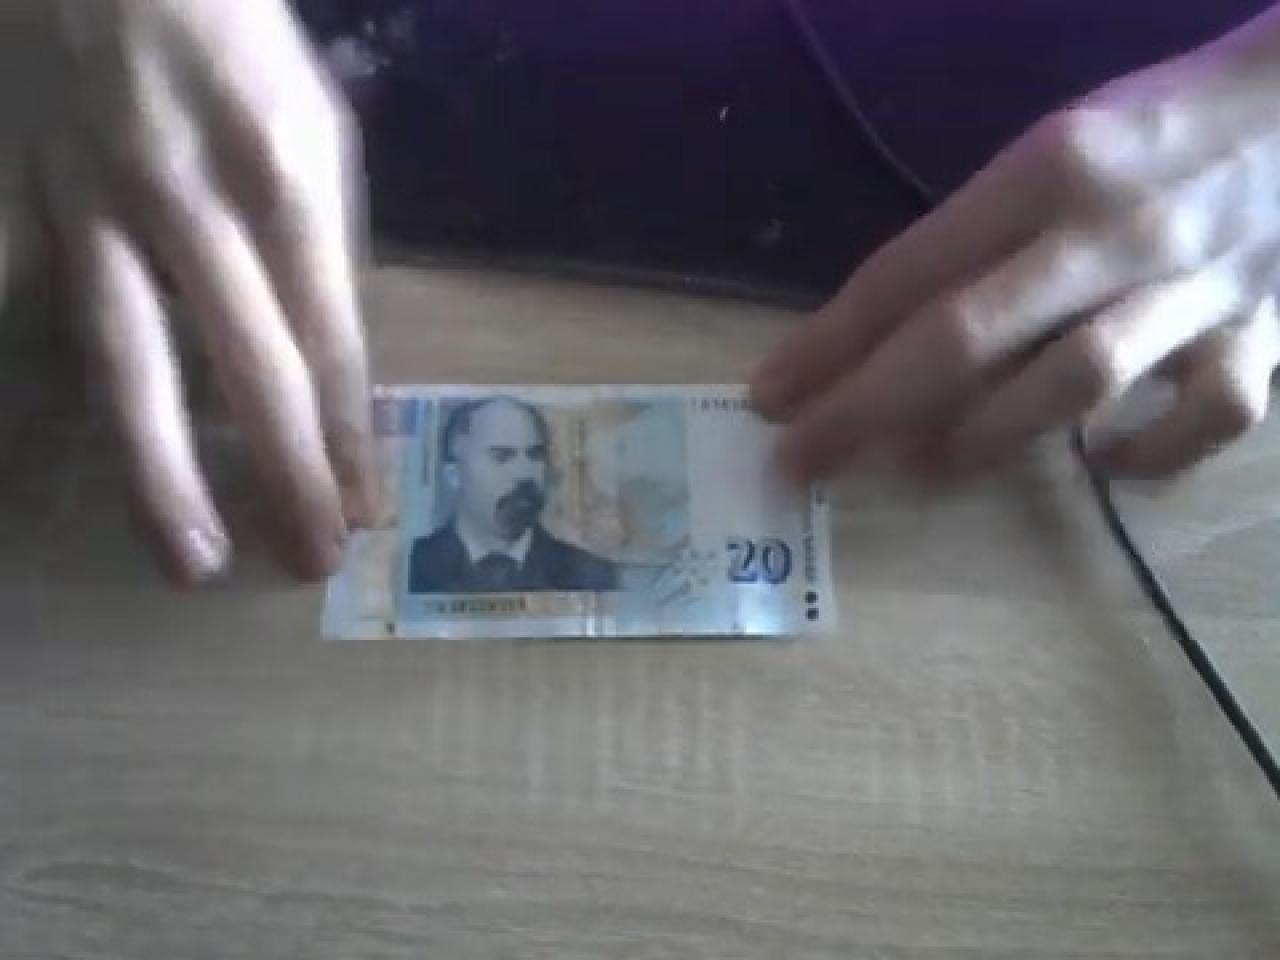20leva: (400, 384, 787, 637)
